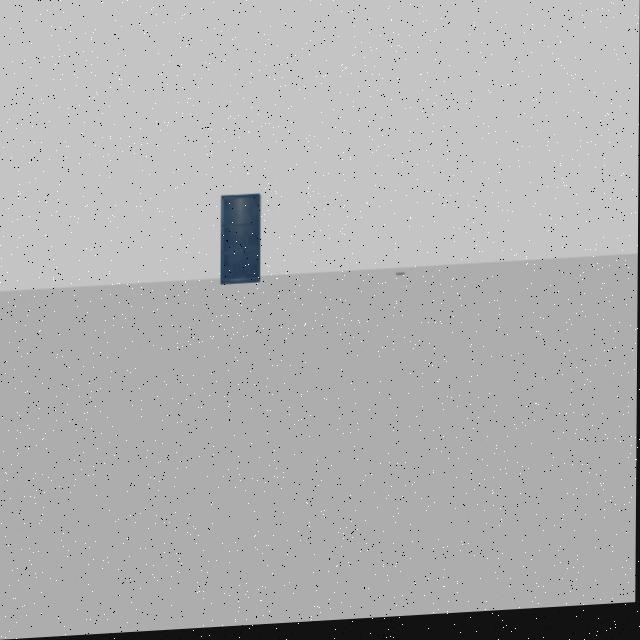bowl: (393, 267, 412, 292)
shelf: (213, 182, 268, 297)
